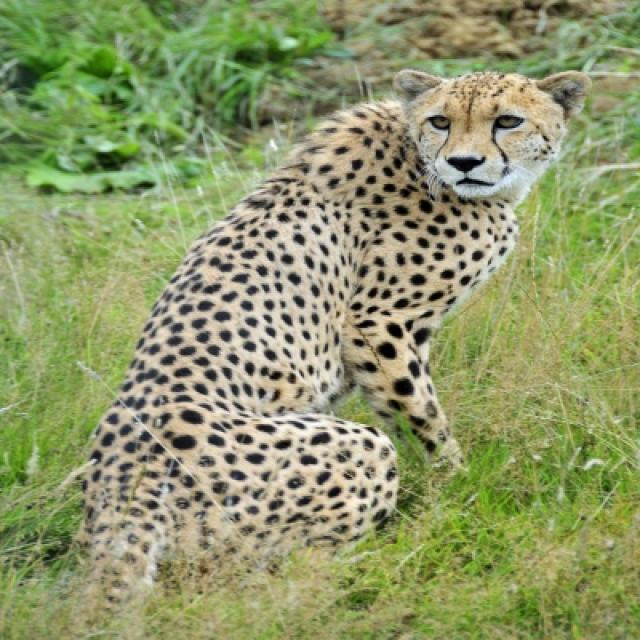Cheetah: (74, 70, 592, 602)
